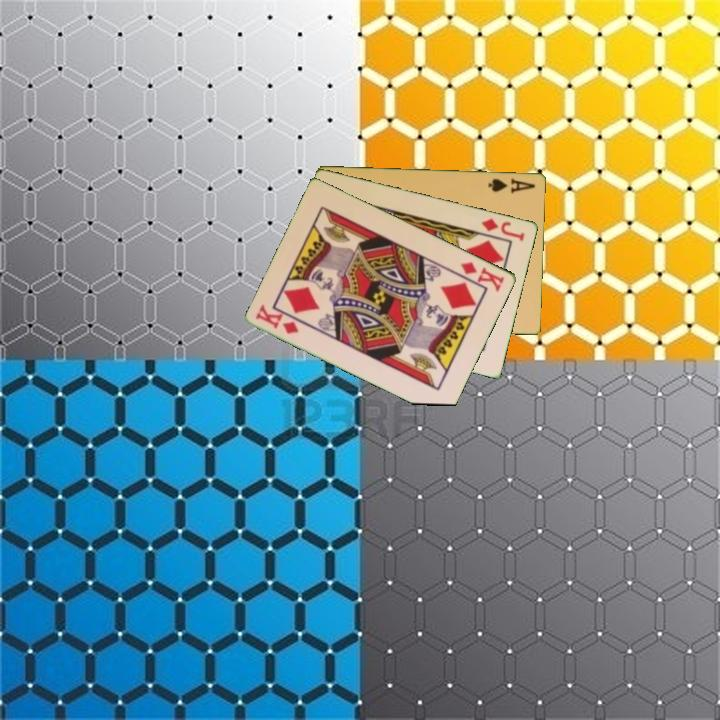As: (485, 175, 539, 196)
Jd: (478, 214, 528, 244)
Kd: (457, 258, 508, 294), (252, 302, 302, 337)
